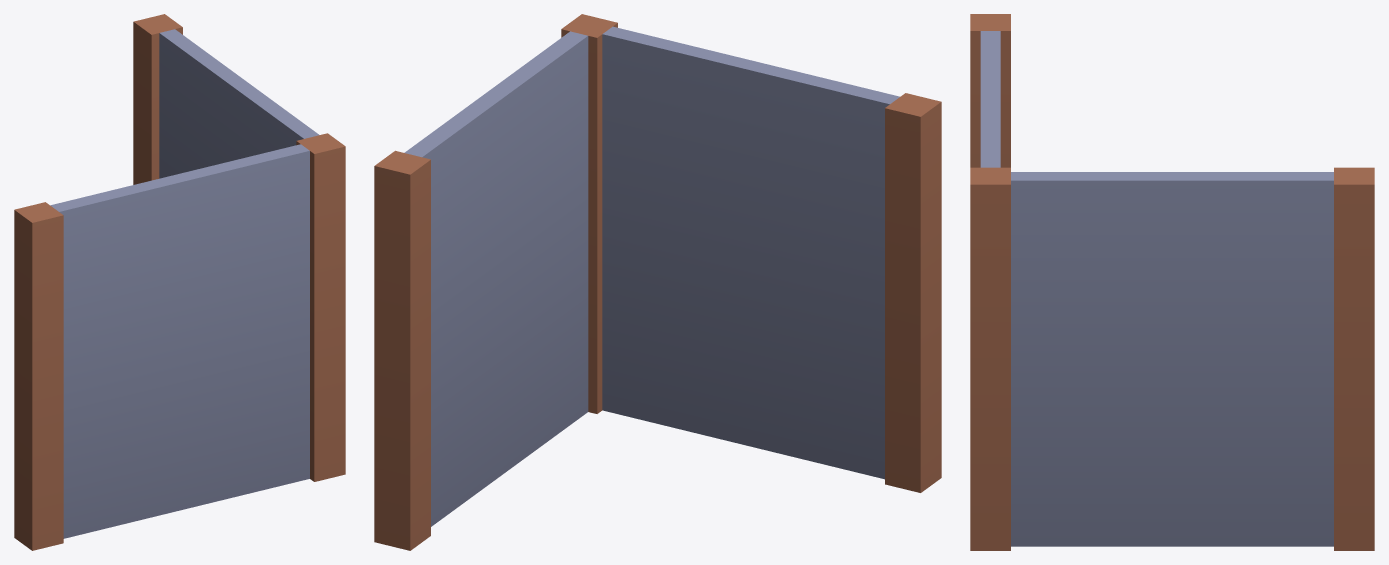
The model's file is town-wall-corner.glb.
3 views of the same model, side by side, from view 1: azimuth 30°, elevation 25°; view 2: azimuth 150°, elevation 25°; view 3: azimuth 270°, elevation 25° (orthographic). The views are drawn at different scales.
Visible parts, largest first — view 1: town-wall-corner; view 2: town-wall-corner; view 3: town-wall-corner.
Boxes of the visible parts, box(x1,y1,x2,y2) form: town-wall-corner: box(14, 14, 345, 550); town-wall-corner: box(374, 14, 941, 550); town-wall-corner: box(970, 14, 1374, 550).
Size of the model in its own units: 1 by 1 by 1.
